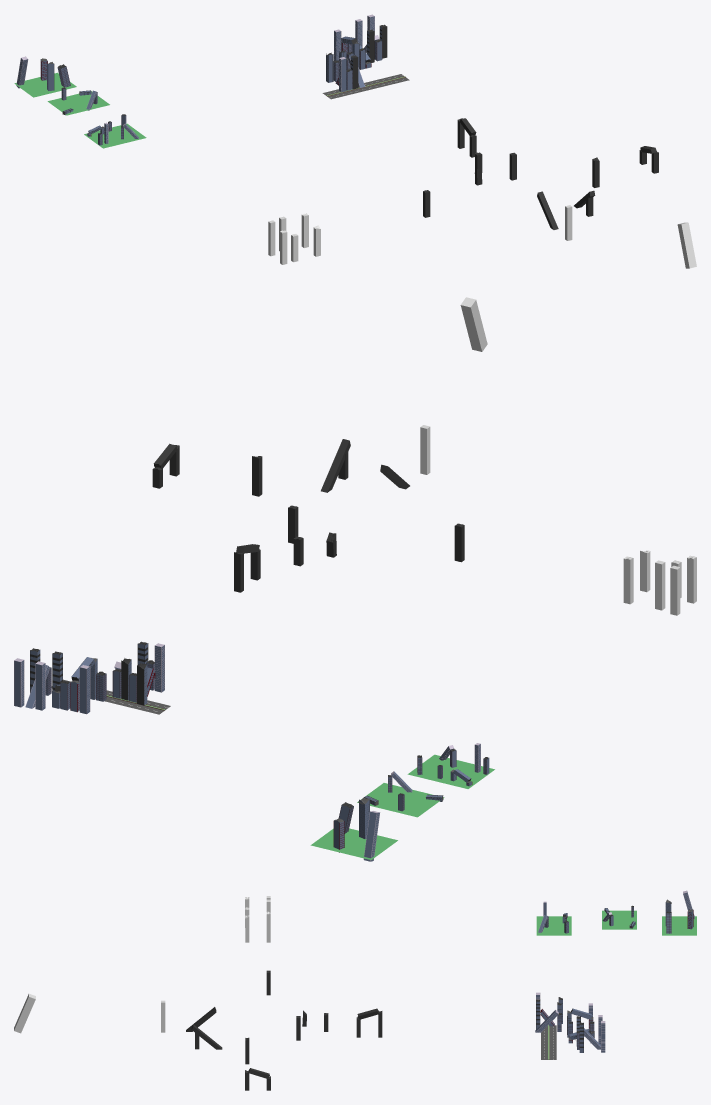
The model's file is RuinedCityAssets.fbx.
3 views of the same model, one above another, from view 1: azimuth 30°, elevation 25°; view 2: azimuth 150°, elevation 25°; view 3: azimuth 270°, elevation 25° (orthographic). The views are drawn at different scales.
Parts seen in each view (by area): view 1: Plane.022, Plane.015, Plane.014, Plane.001, Cube.019, Plane.012, Plane.004; view 2: Plane.022, Plane.015, Plane.014, Plane.012, Plane.004, Cube.019, Plane.008; view 3: Plane.022, Plane.015, Plane.014, Plane.001, Cube.019.
Part boxes in pixels (x1,y1,x2,y2): Plane.022: (14,56,76,97); Plane.015: (84,114,146,148); Plane.014: (47,87,109,115); Plane.001: (322,74,409,99); Cube.019: (677,222,696,268); Plane.012: (326,52,346,92); Plane.004: (355,19,374,62); Plane.022: (310,797,397,861); Plane.015: (407,743,494,788); Plane.014: (357,771,444,817); Plane.012: (137,643,164,705); Plane.004: (35,651,62,710); Cube.019: (460,297,487,351); Plane.008: (79,665,106,714); Plane.022: (662,890,696,935); Plane.015: (536,901,571,935); Plane.014: (602,905,636,929); Plane.001: (541,1025,556,1059); Cube.019: (14,993,35,1033).
Size of the model in its own units: 53434 by 8710 by 88907.
